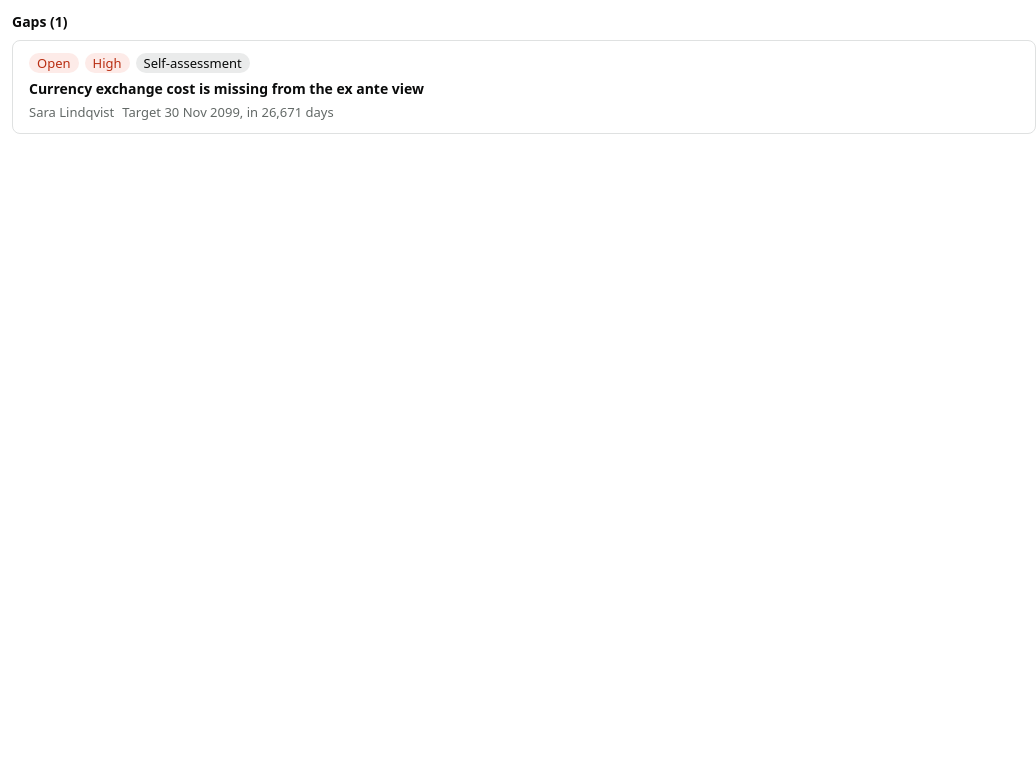
the gaps panel on the obligation › says when no gap is recorded, and reads the record of one in a legal entity
The image size is (1036, 780).
Later steps or results of the test are not shown.
Click the button "Currency exchange cost is missing from the ex ante view" at (227, 89), box [29, 79, 424, 99]
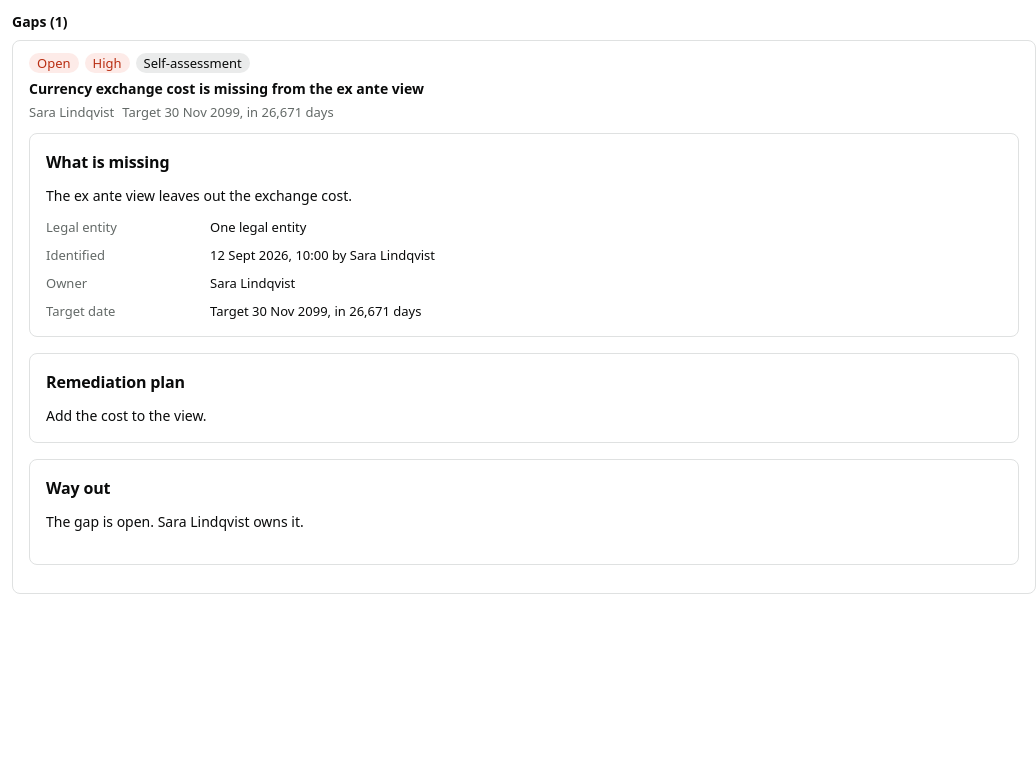
expect the element that starts with "What is missing" is shown: met, box [29, 133, 1019, 581]
expect the text "One legal entity" is shown: met, box [210, 218, 306, 236]
